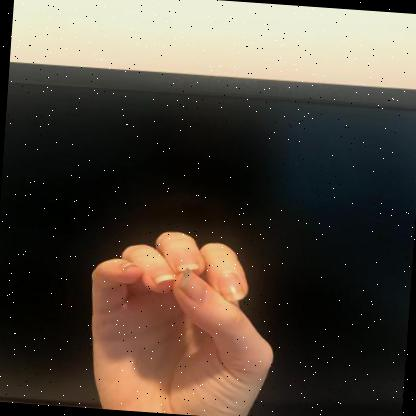O: (91, 232, 273, 416)
